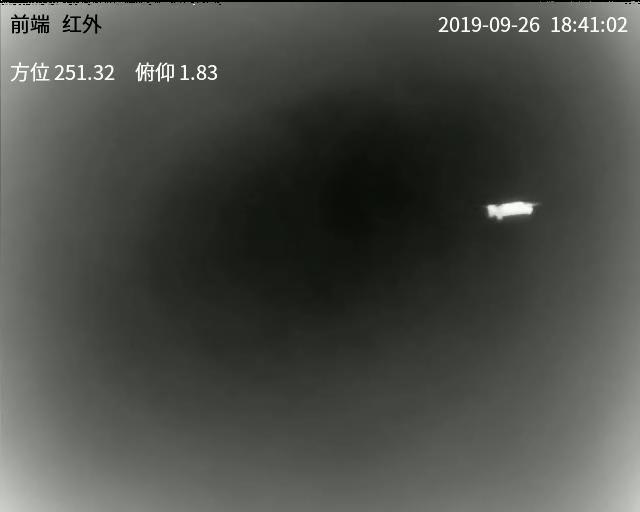uav: (474, 199, 541, 221)
